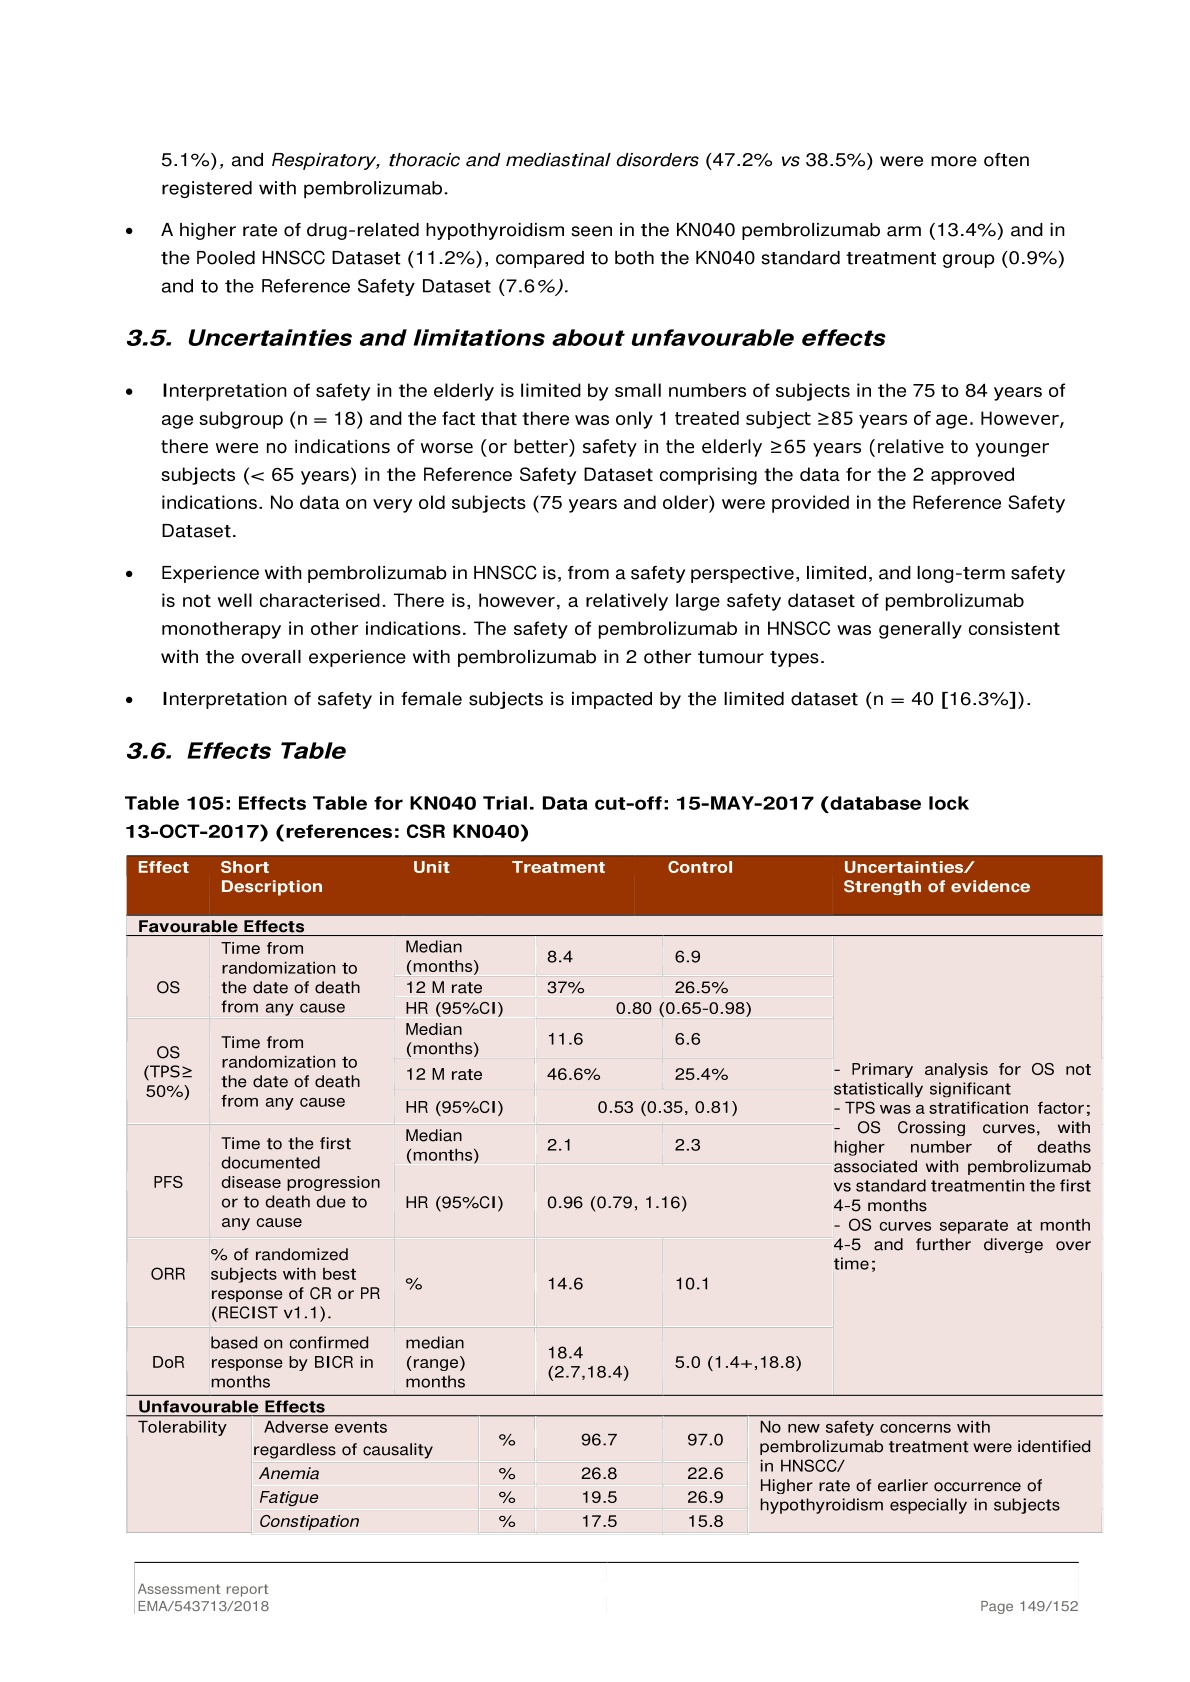merged_cells: (125, 853, 1104, 1534)
